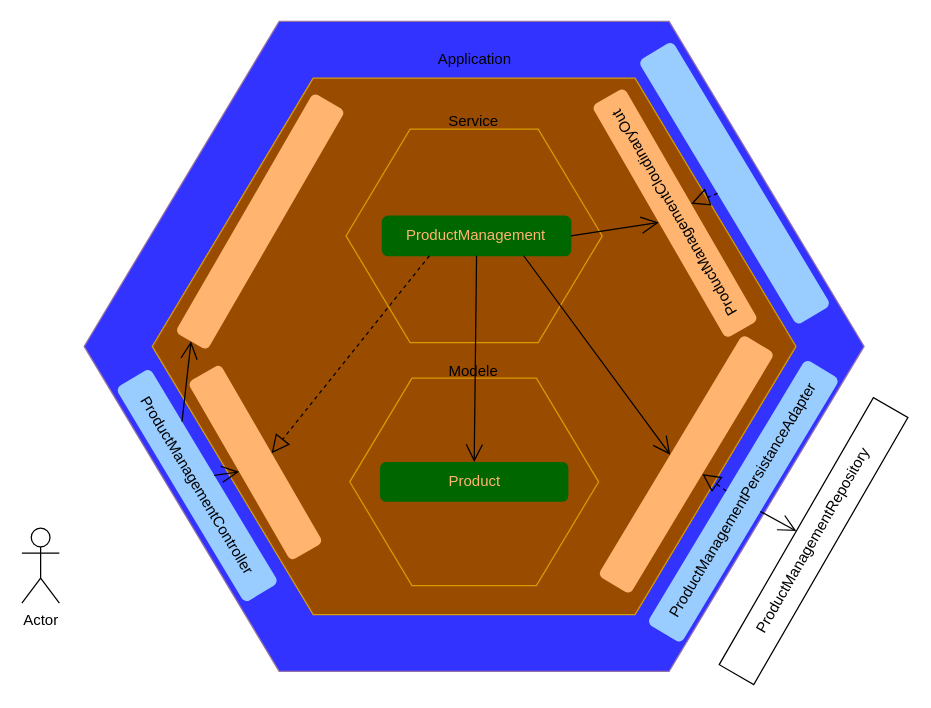
The diagram is 931 pixels wide and 708 high, and some of its shapes have lost their labels. Here are the shapes that lost their labels. From the top down, the centre of each, then its label:
At (733,182): "ProductManagementCloudinaryAdapter".
At (259,221): "ProductManagementAddCommand".
At (255,462): "ProductManagementIn".
At (685,464): "ProductManagementPersistanceOut".
